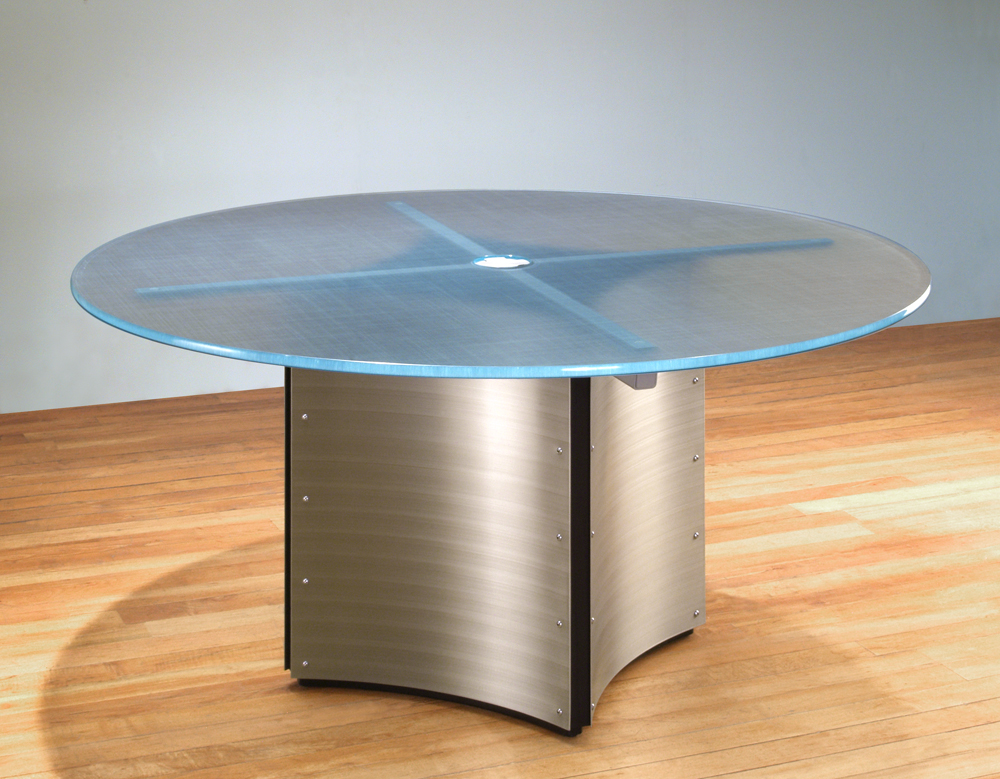conference_table: (69, 188, 936, 737)
